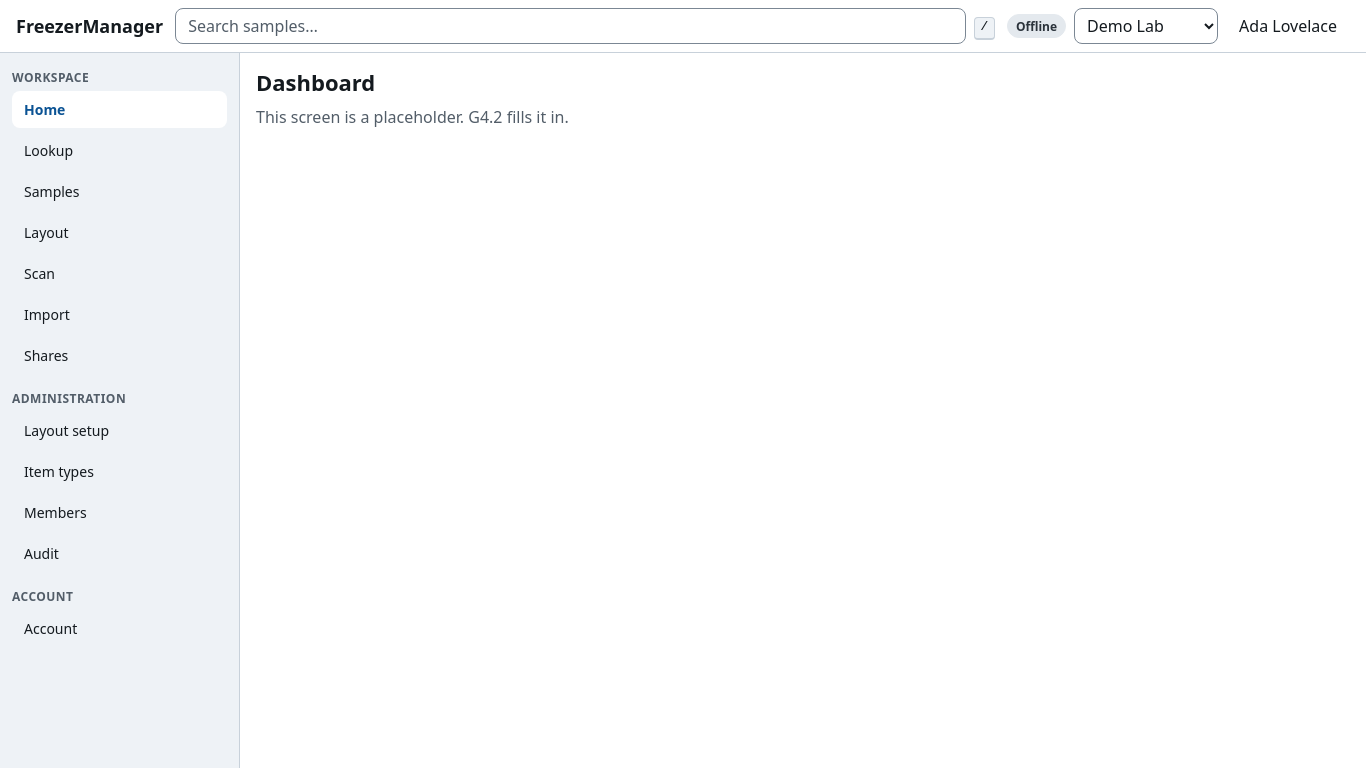
user menu › opens and offers the account screen and sign-out
Click the button "Ada Lovelace" at point(1288, 26), box [1226,8,1350,44]
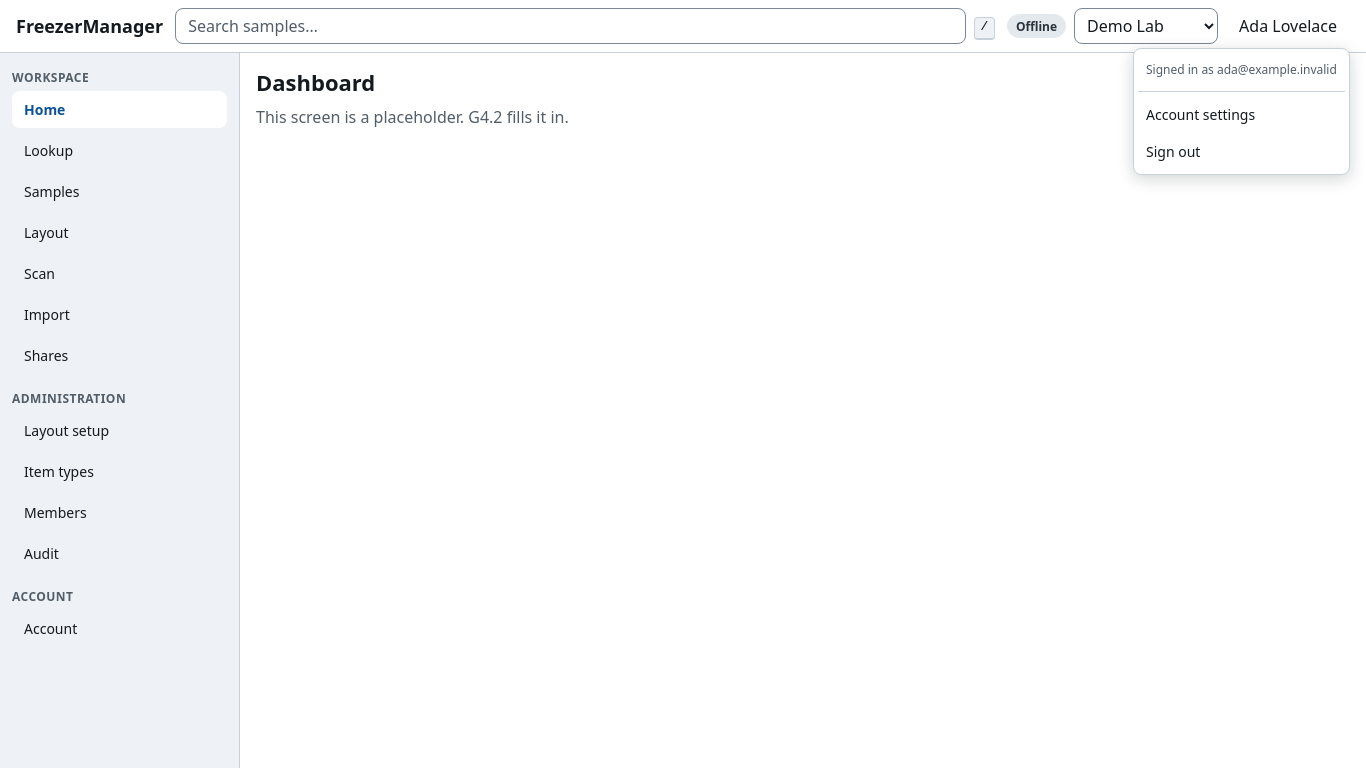
Now the menu item "Sign out" is shown, box [1146,142,1200,161]
